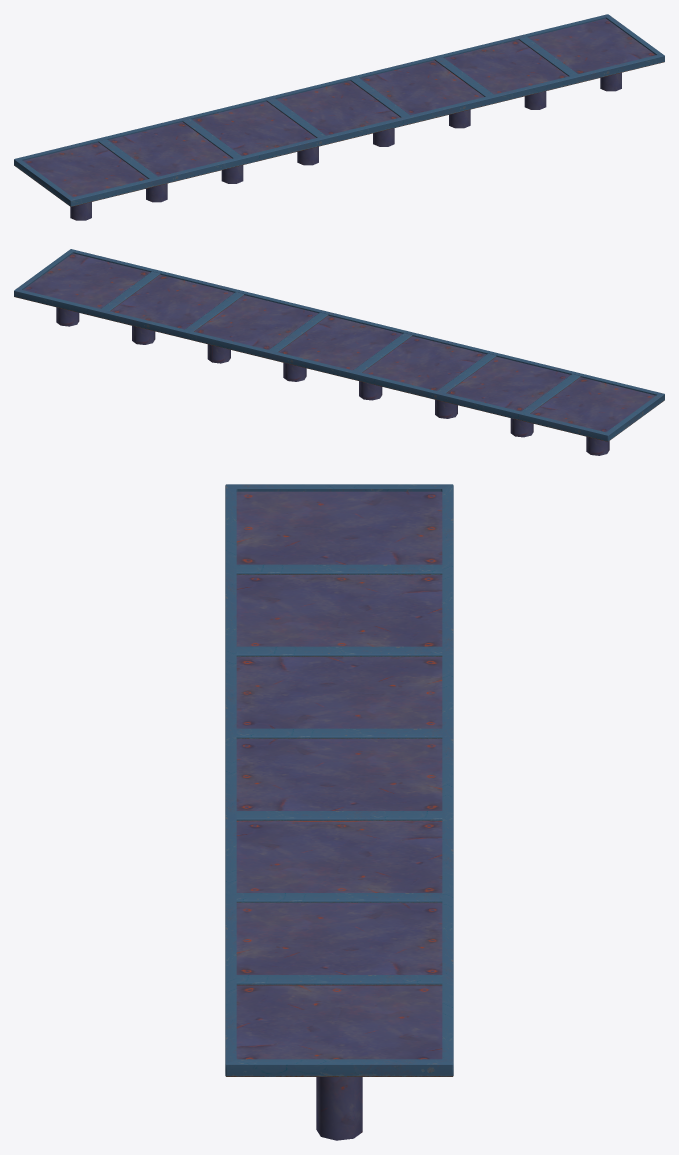
The model's file is Loco_Station.fbx.
3 views of the same model, one above another, from view 1: azimuth 30°, elevation 25°; view 2: azimuth 150°, elevation 25°; view 3: azimuth 270°, elevation 25° (orthographic). The views are drawn at different scales.
Visible parts, largest first — view 1: Loco_Station.002; view 2: Loco_Station.002; view 3: Loco_Station.002.
Part boxes in pixels (bbox=[...]): Loco_Station.002: bbox=[14, 14, 664, 220]; Loco_Station.002: bbox=[14, 249, 664, 455]; Loco_Station.002: bbox=[225, 484, 453, 1140].
Bounding box in the file's own units: 2399 × 177 × 399.
